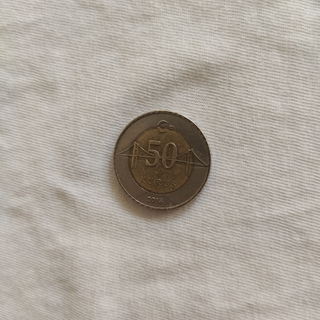50KURUS: (111, 109, 212, 212)
